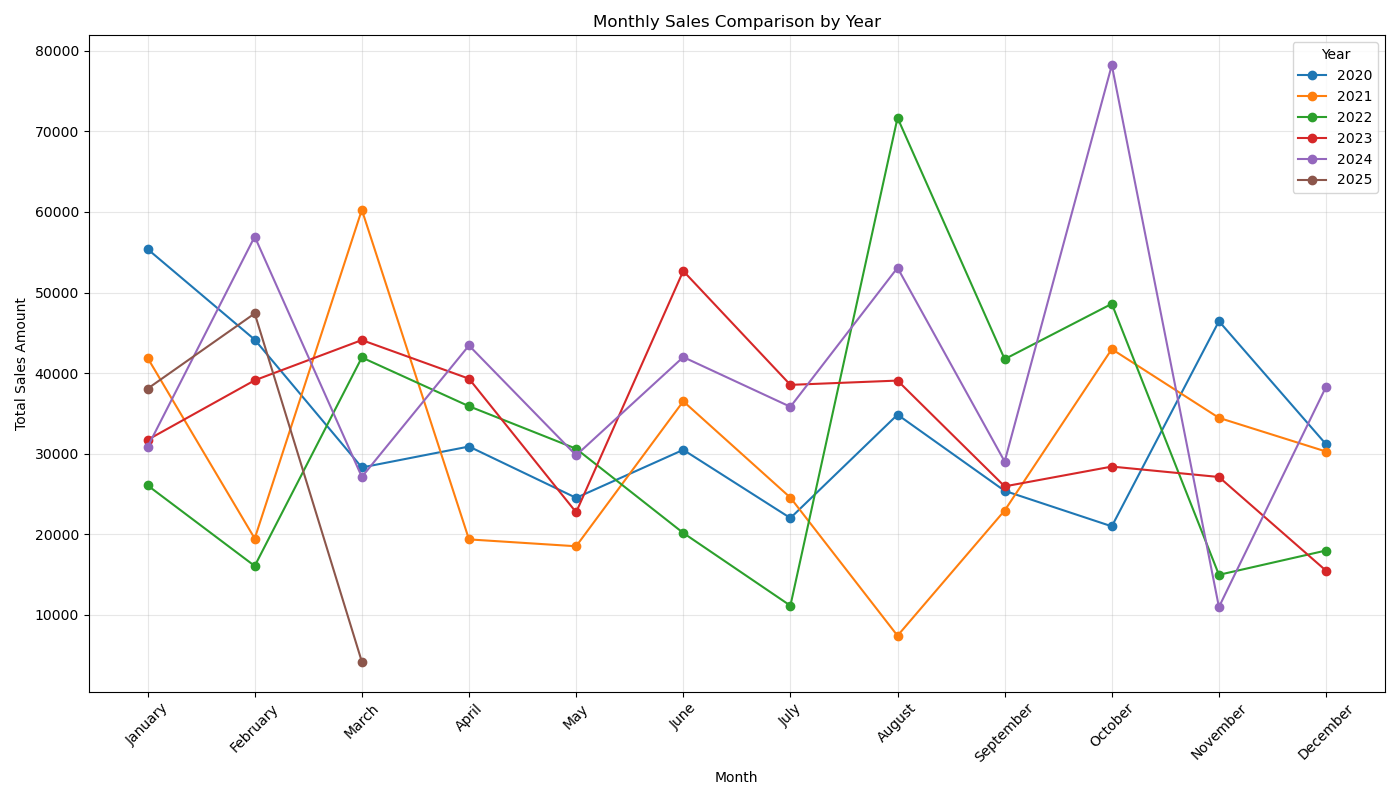

Layout of this report page (visuals, bound fields, positions):
{"tool":"powerbi","page":{"name":"Page 2","canvas":[1280,720],"ordinal":1},"visuals":[{"type":"pythonVisual","title":"📊 Monthly Sales Trends & Anomalies 📈📉","fields":{"Values":["erp_retail.date_of_sale.Variation.Date Hierarchy.Year","erp_retail.date_of_sale.Variation.Date Hierarchy.Quarter","erp_retail.date_of_sale.Variation.Date Hierarchy.Month","erp_retail.date_of_sale.Variation.Date Hierarchy.Day","erp_retail.category","erp_retail.Total Items Sold"]},"box":[0,39.3,1270.2,515.7],"z":0}]}

Visuals, with their boxes in screenshot pixels (x1, y1, x2, y2), scaled from the page's 1280x720 canvas onto the 1400x800 screenshot:
"📊 Monthly Sales Trends & Anomalies 📈📉" pythonVisual: 0,44,1389,617
